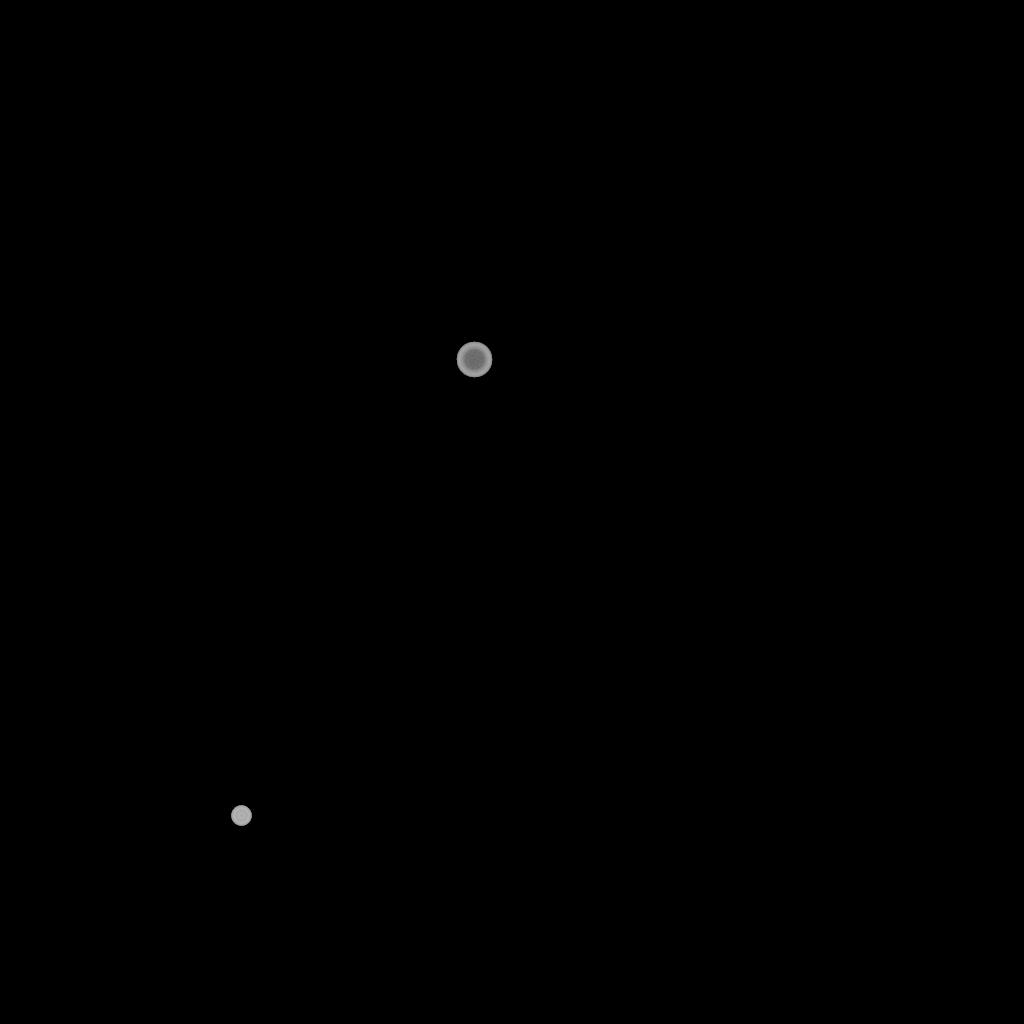depth:-40: (231, 806, 251, 826)
depth:-60: (456, 342, 492, 378)
